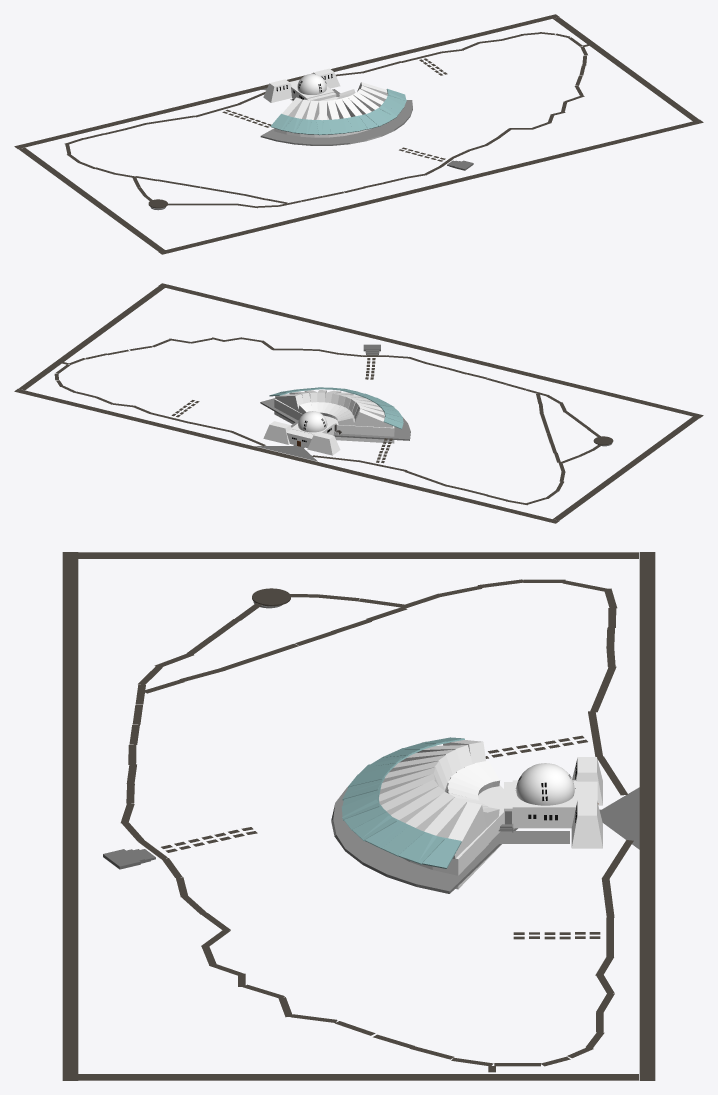
File: asmundarsafn_nyast_2.obj
The picture shows the model from 3 angles, top to bottom: view 1: azimuth 30°, elevation 25°; view 2: azimuth 150°, elevation 25°; view 3: azimuth 270°, elevation 25°; orthographic projection. The views are drawn at different scales.
Parts seen in each view (by area): view 1: Plane.001, Cube.047, Cube.033, Sphere, h_hlid; view 2: Plane.001, Cube.033, syningarsalur, Cube.047, h_hlid, Sphere, v_hlid; view 3: Plane.001, Cube.033, Cube.047, Sphere, innanhus, syningarsalur, v_hlid.
Part boxes in pixels (x1,y1,x2,y2): Plane.001: (14, 14, 703, 254); Cube.047: (270, 88, 406, 135); Cube.033: (282, 82, 387, 120); Sphere: (297, 74, 326, 94); h_hlid: (263, 79, 291, 102); Plane.001: (14, 283, 703, 523); Cube.033: (275, 390, 392, 427); syningarsalur: (274, 399, 394, 443); Cube.047: (269, 387, 403, 429); h_hlid: (307, 432, 340, 455); Sphere: (298, 411, 327, 432); v_hlid: (263, 421, 291, 444); Plane.001: (62, 552, 655, 1080); Cube.033: (379, 740, 500, 858); Cube.047: (341, 737, 464, 868); Sphere: (516, 763, 574, 805); innanhus: (512, 780, 577, 828); syningarsalur: (403, 785, 503, 889); v_hlid: (571, 800, 602, 848).
Bounding box in the file's own units: 160 × 9.13 × 75.73.
